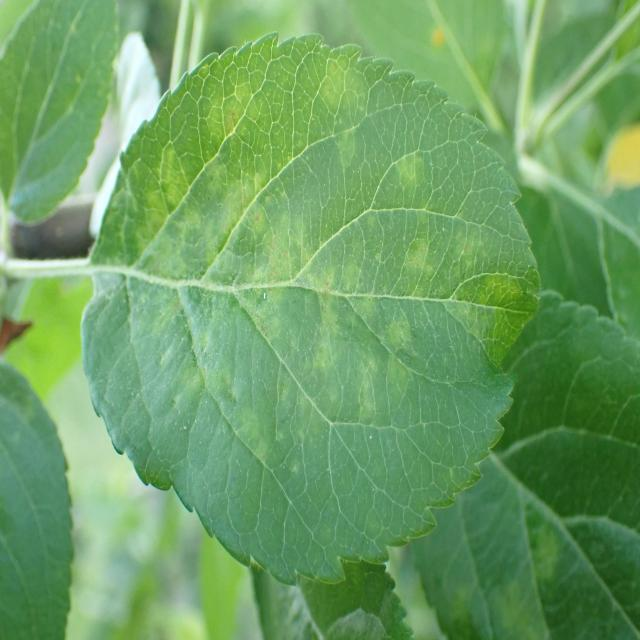scab: (108, 36, 509, 472)
